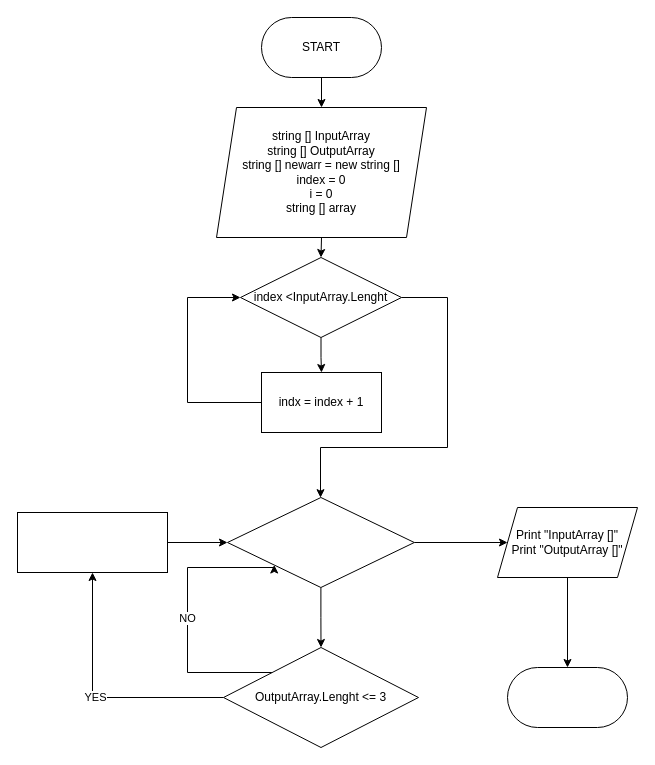
The diagram is 655 pixels wide and 765 high, and some of its shapes have lost their labels. The shapes that lost their labels are listed below. From the top down, each one's box as (x1, y1, x2, y2) in pixels, then its label:
(16, 512, 168, 572): newarr [] = OutputArray []
(226, 496, 414, 588): index < OutputArray.Lenght
(506, 666, 628, 728): END
